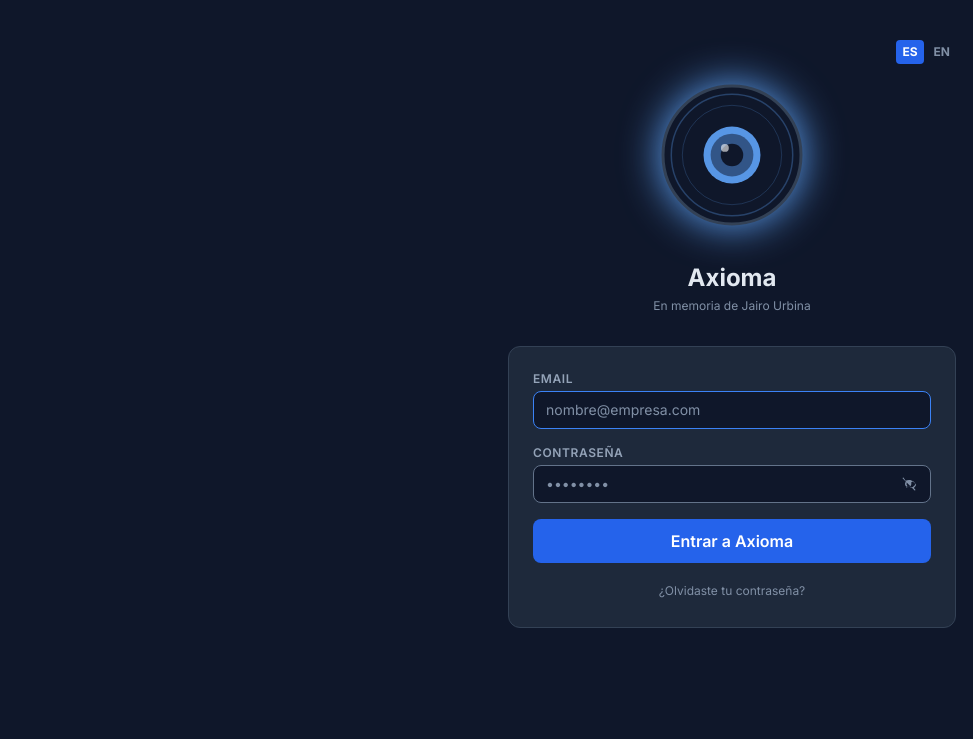
Login with the real Zustand store › routes an Office identity to account security after its own epoch bump
Type "a@b.c" into the field with placeholder "nombre@empresa.com" at (732, 410), box [533,391,931,429]
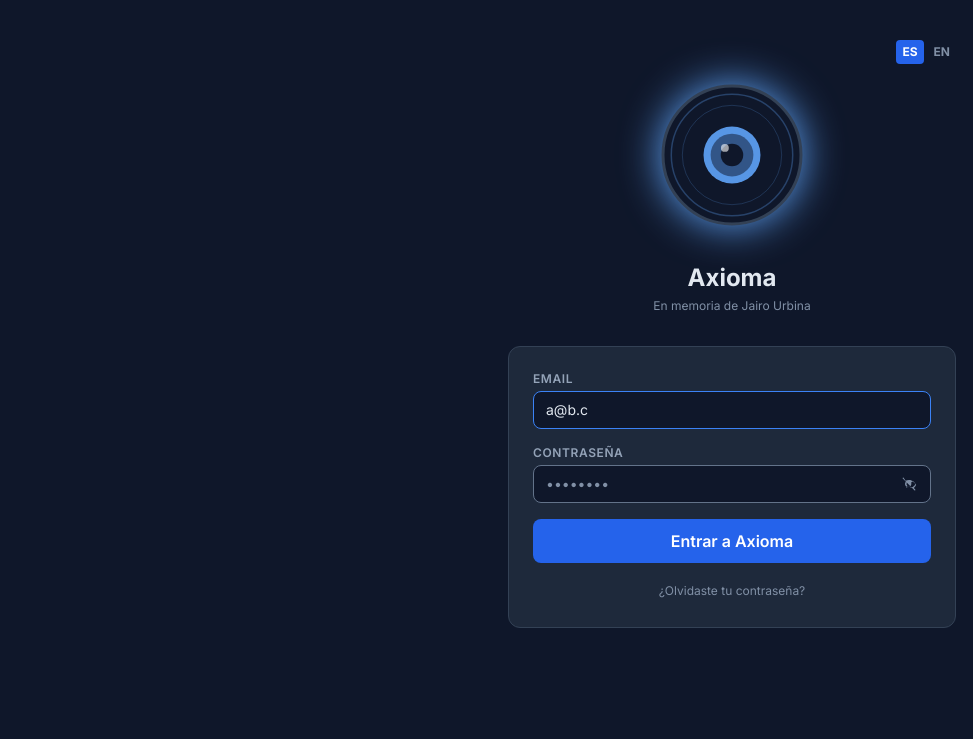
Type "password" into the password field with placeholder "••••••••" at (732, 484), box [533,465,931,503]
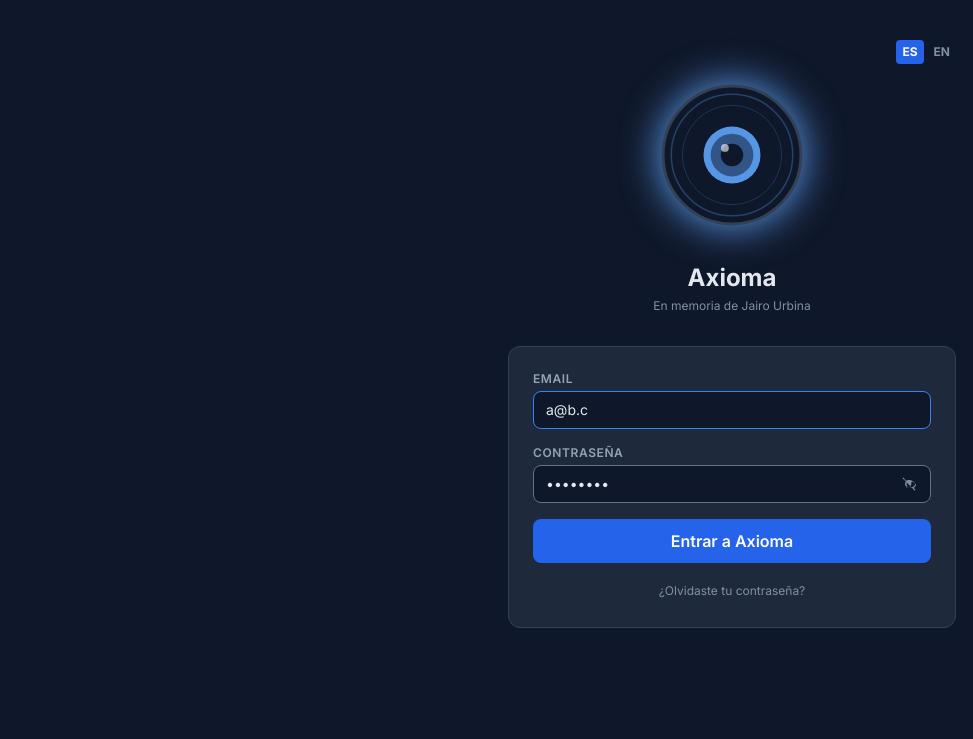
Click the button "Entrar a Axioma" at (732, 541), box [533,519,931,563]
(page scrolled)
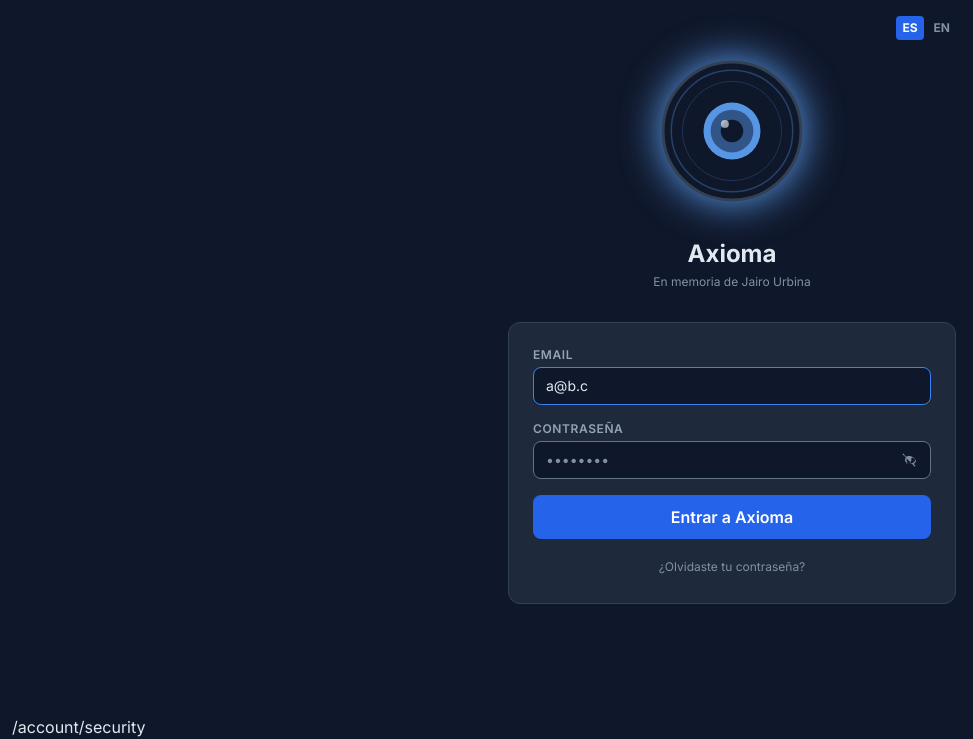
Result: the text with test id "location" reads "/account/security" at [12,717,146,737]
